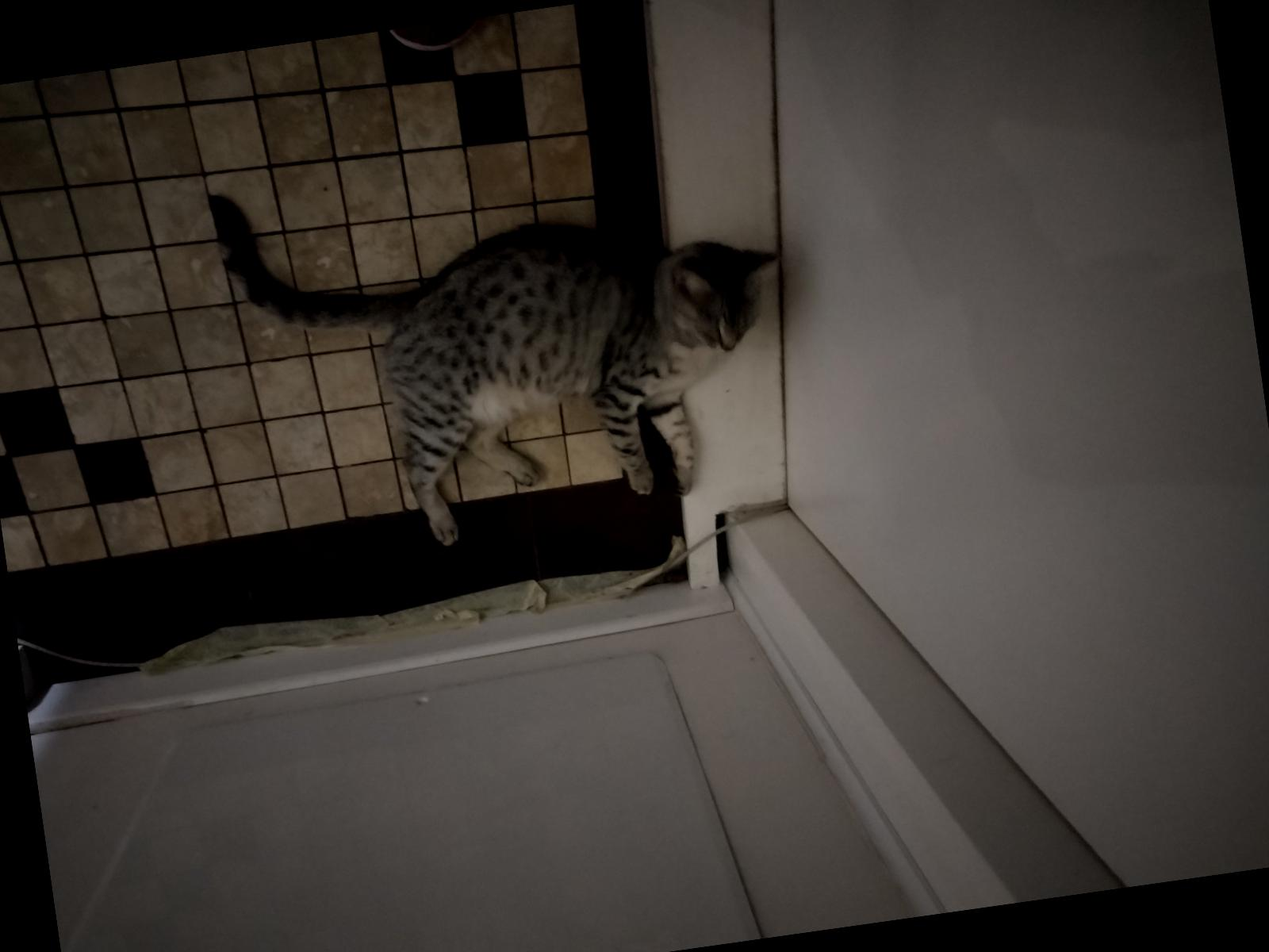macka: (203, 119, 813, 575)
